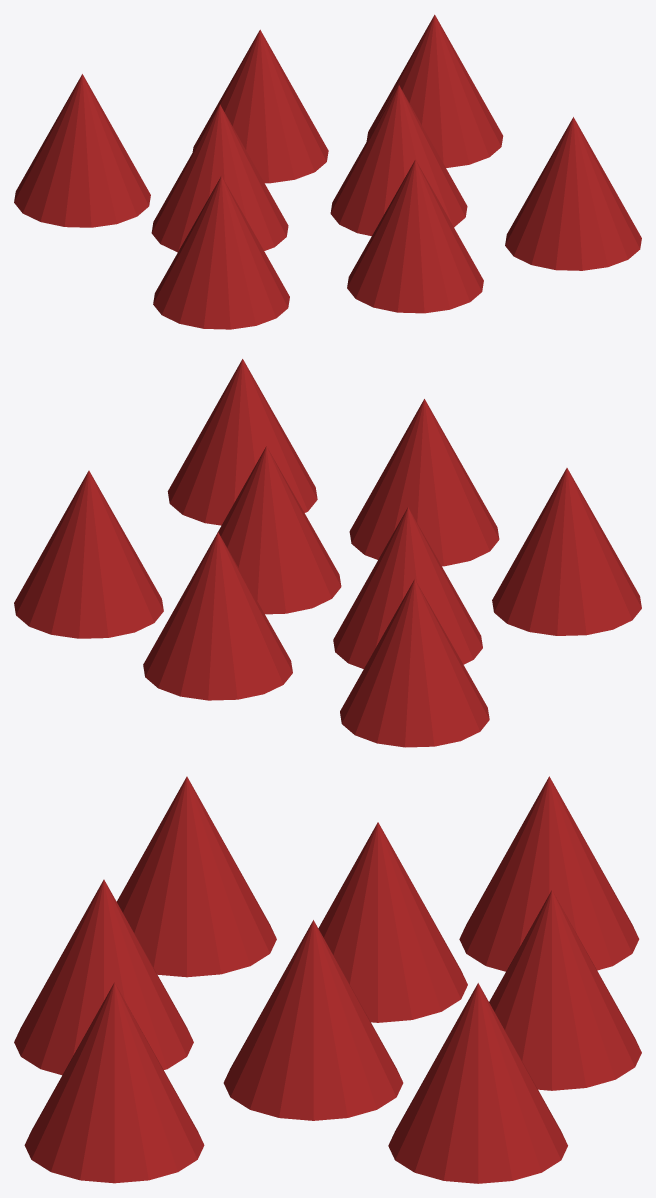
File: spikes.fbx
3 views of the same model, one above another, from view 1: azimuth 30°, elevation 25°; view 2: azimuth 150°, elevation 25°; view 3: azimuth 270°, elevation 25° (orthographic). The views are drawn at different scales.
Visible parts, largest first — view 1: Spikes; view 2: Spikes; view 3: Spikes.
Part boxes in pixels (x1=…): Spikes: x1=14, y1=14, x2=641, y2=329; Spikes: x1=14, y1=359, x2=641, y2=747; Spikes: x1=14, y1=776, x2=641, y2=1183.
Bounding box in the file's own units: 199 × 53.44 × 186.
